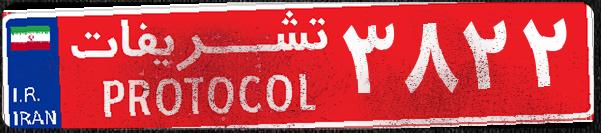2: (460, 20, 520, 115), (520, 20, 580, 115)
3: (340, 20, 400, 115)
8: (400, 20, 460, 115)
تشریفات: (60, 8, 340, 125)
